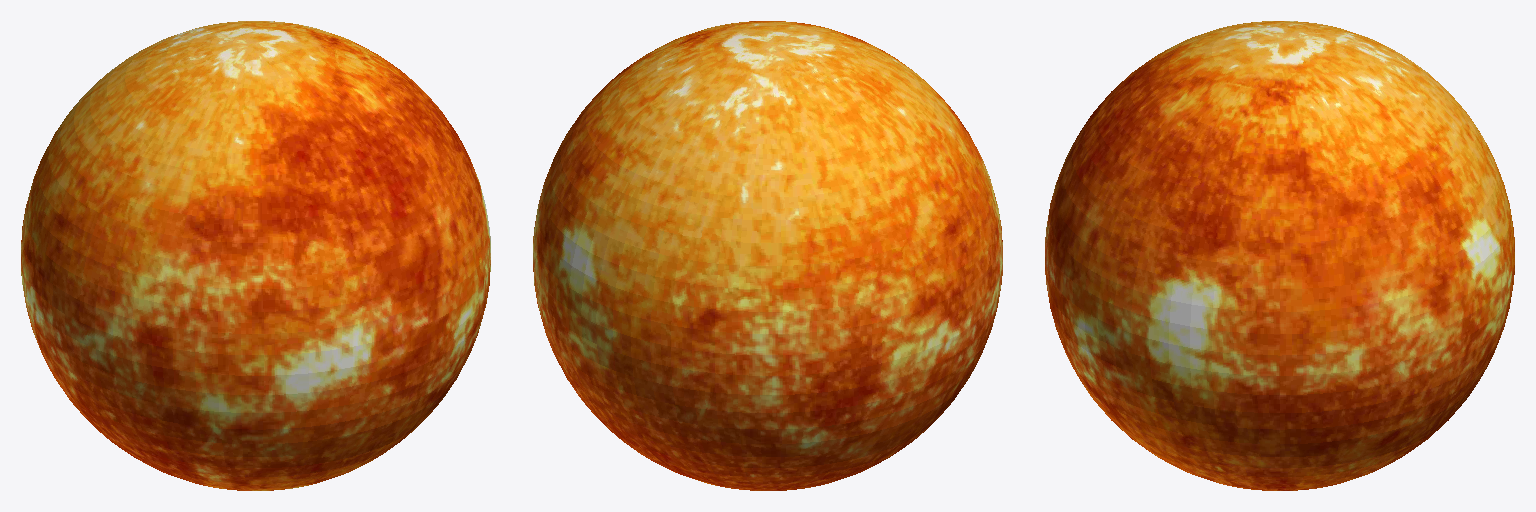
3 renders of one model, left to right at view 1: azimuth 30°, elevation 25°; view 2: azimuth 150°, elevation 25°; view 3: azimuth 270°, elevation 25°, orthographic.
Visible parts, largest first — view 1: Sphere002; view 2: Sphere002; view 3: Sphere002.
Boxes of the visible parts, <box> form: Sphere002: <box>21,21,490,490</box>; Sphere002: <box>533,21,1002,490</box>; Sphere002: <box>1045,21,1514,490</box>.
Bounding box in the file's own units: 90 × 90 × 90.
1 materials, 1 textured.